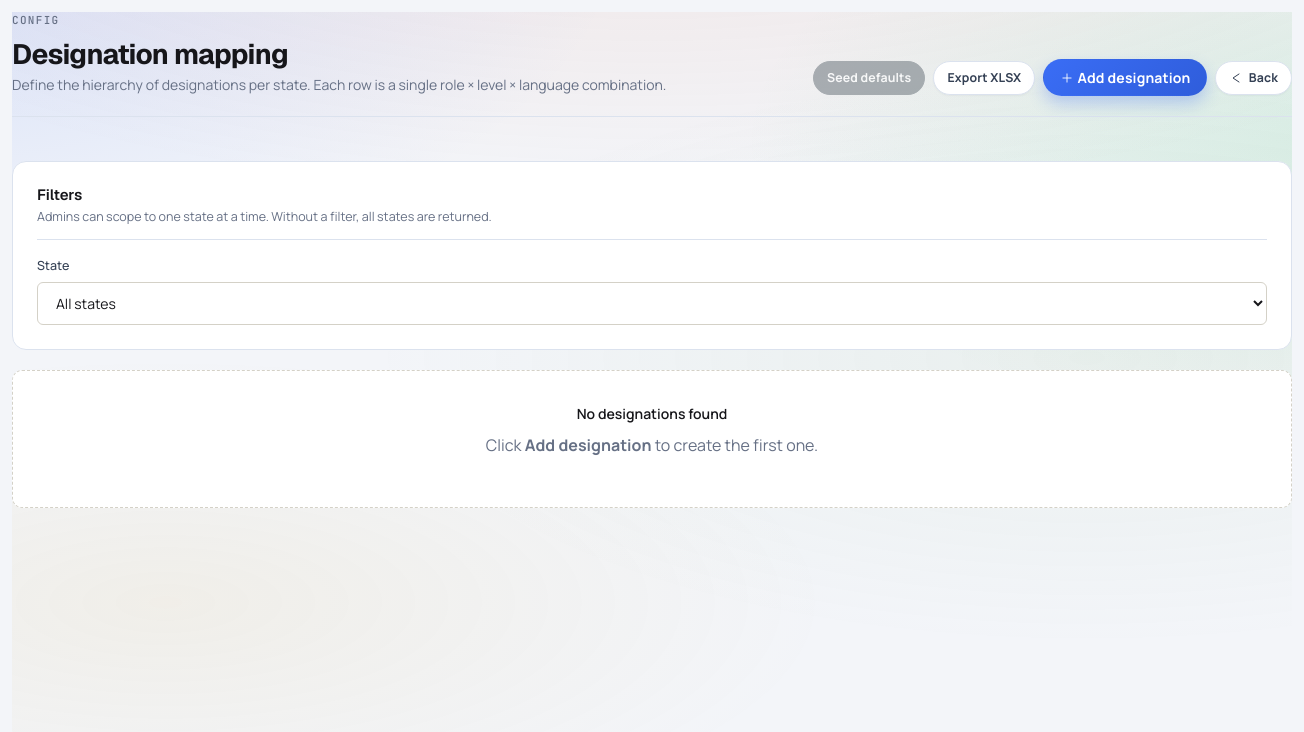
it: DesignationMapping — Export + Seed defaults › admin: Seed defaults is disabled until a state filter is picked
The width and height of the screenshot is (1304, 732).
Expected: the element with test id "dm-empty" is shown, [12,370,1292,508]
Expected: the button with test id "dm-seed" is disabled, [813,61,925,95]
# Pick a state → seed enables
Select "Maharashtra (MH)" in the dropdown with test id "dm-filter-state" at coordinates (652, 303), box [37,282,1267,325]
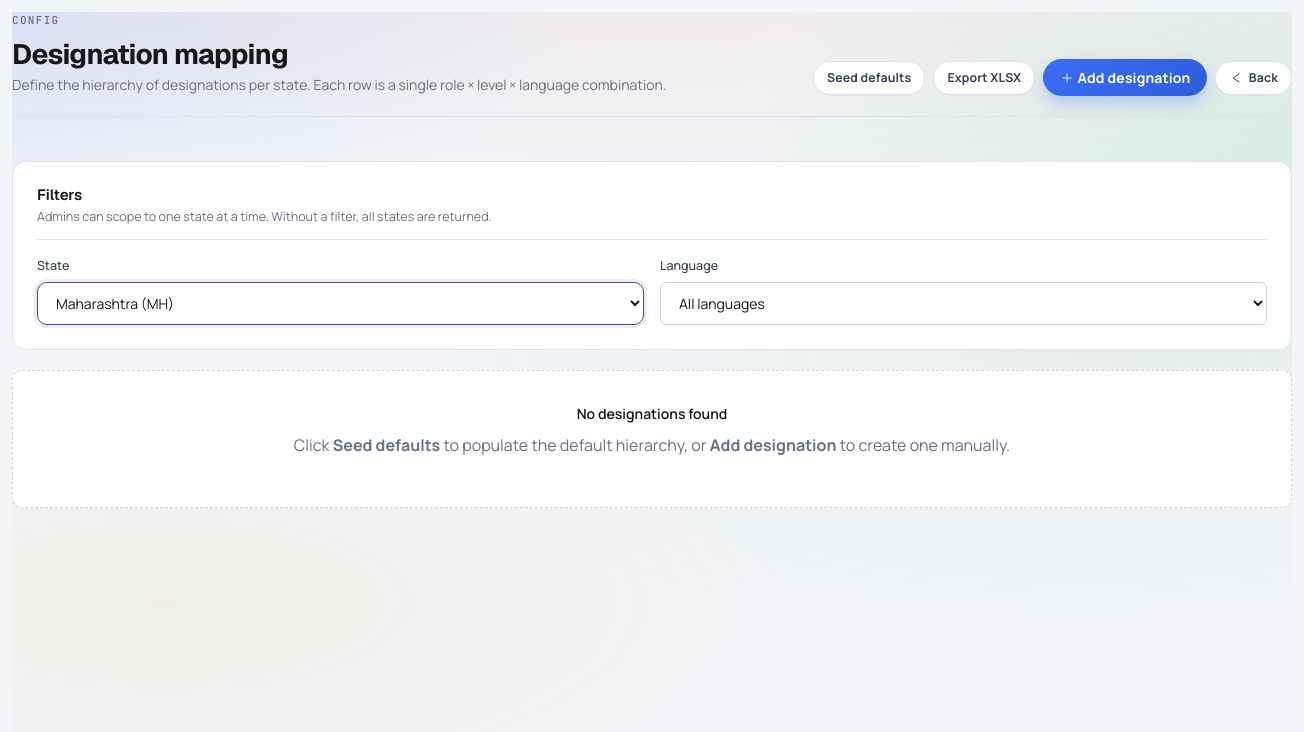
Now the button with test id "dm-seed" is enabled, box [813,61,925,95]
